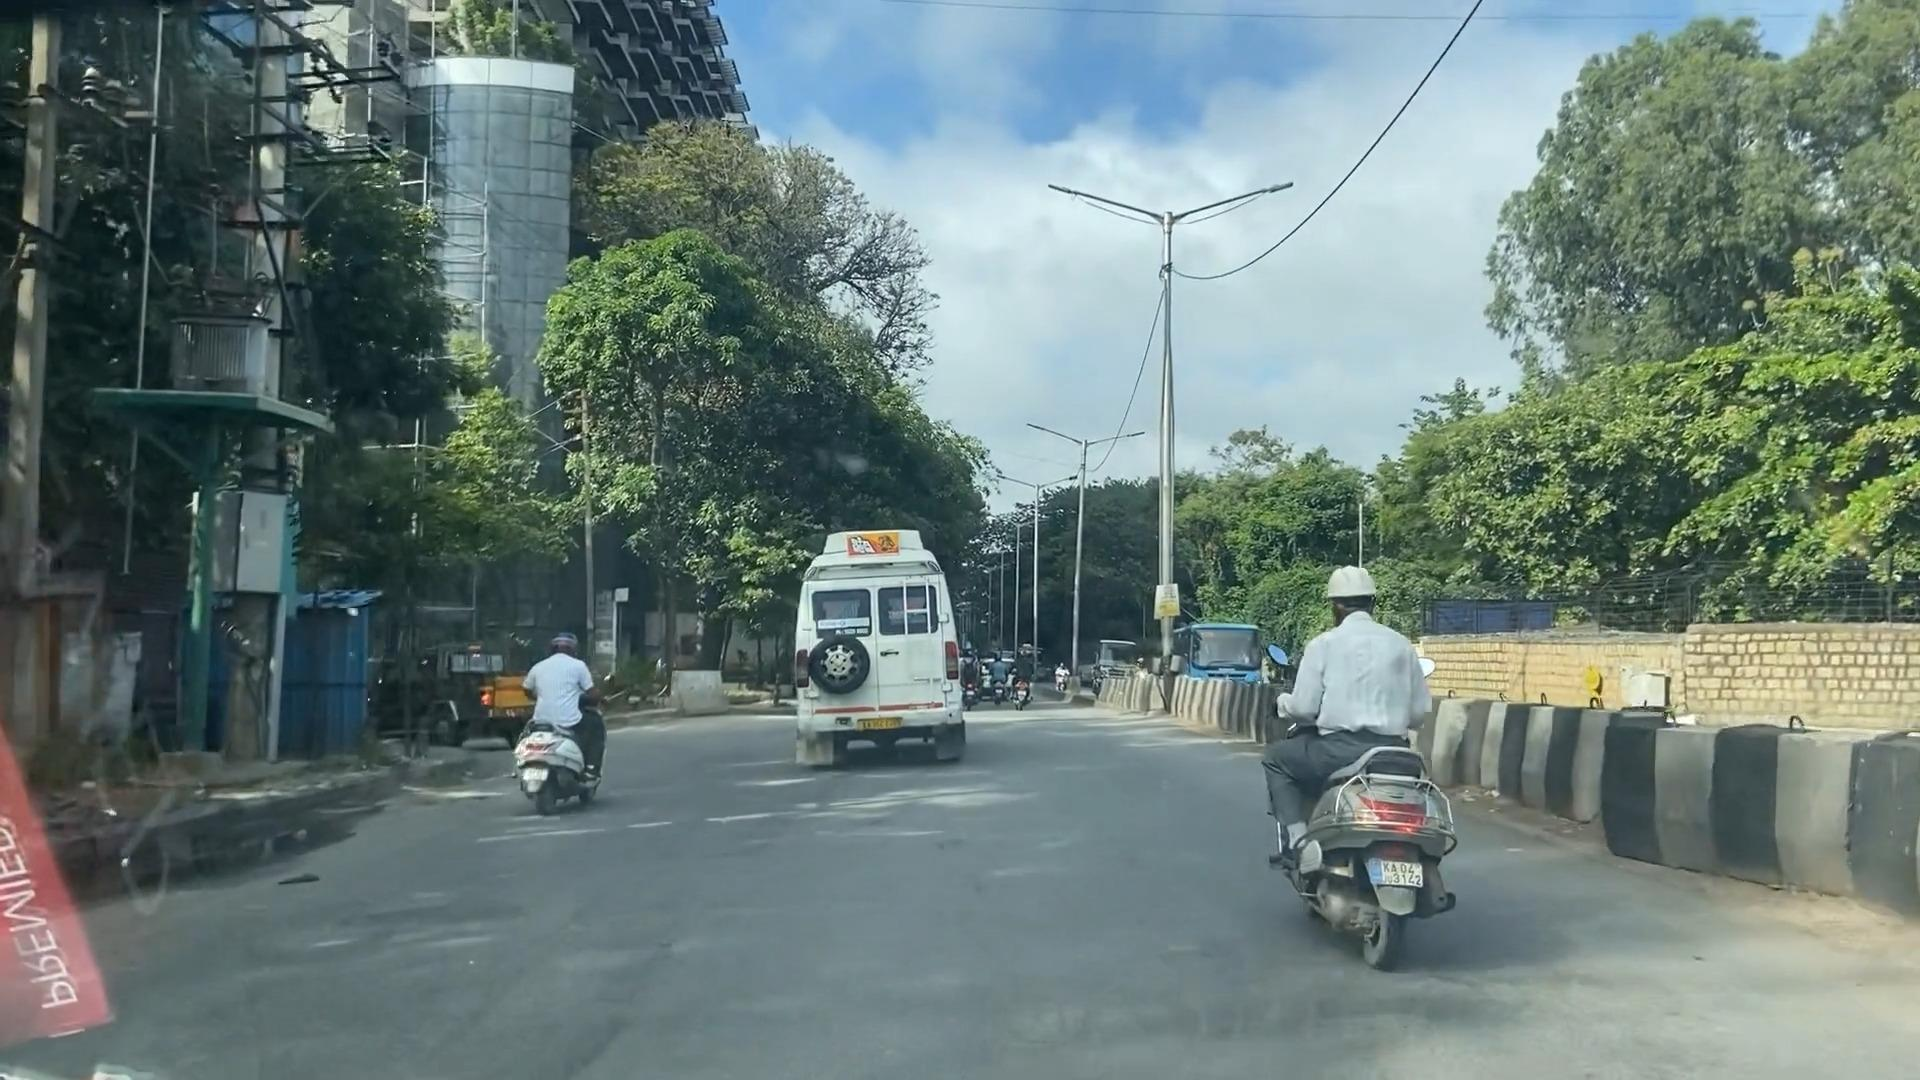HMV: (790, 502, 984, 769)
LMV: (1236, 543, 1477, 980), (524, 625, 608, 808)
RoadDamages: (533, 887, 761, 1080)
